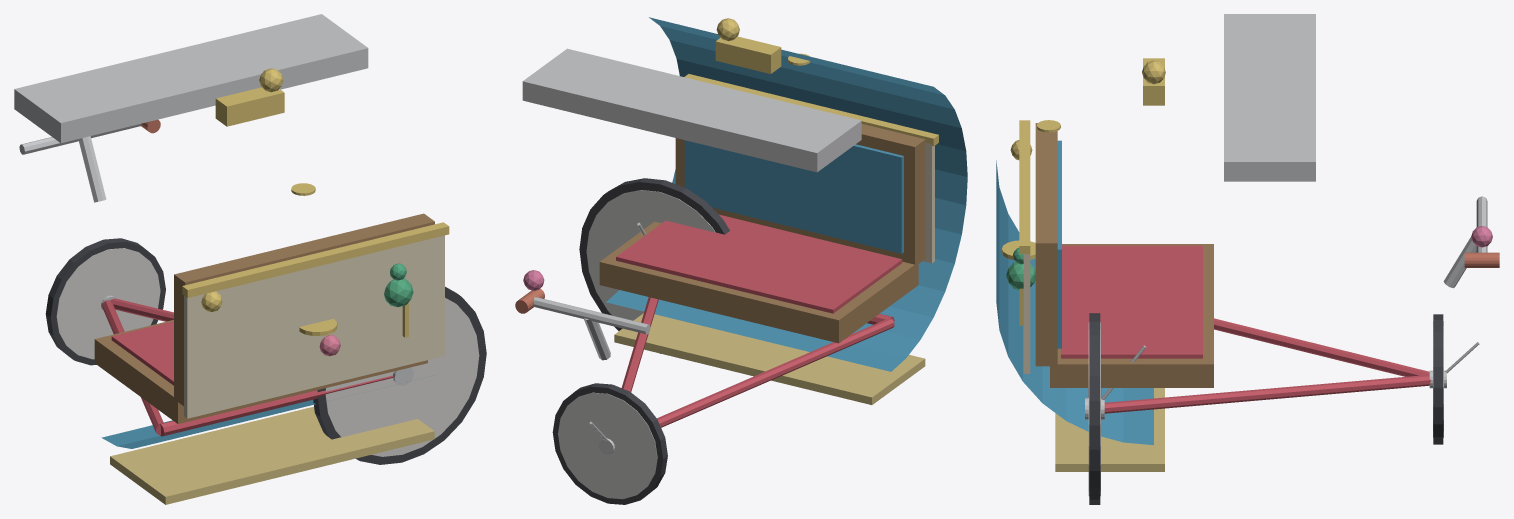
File: rickshaw.glb
3 renders of one model, left to right at view 1: azimuth 30°, elevation 25°; view 2: azimuth 150°, elevation 25°; view 3: azimuth 270°, elevation 25°, orthographic. The views are drawn at different scales.
Visible parts, largest first — view 1: rickshaw; view 2: rickshaw; view 3: rickshaw.
Boxes of the visible parts, box(x1,y1,x2,y2) form: rickshaw: box(14, 14, 486, 504); rickshaw: box(515, 17, 967, 504); rickshaw: box(996, 14, 1499, 504).
Size of the model in its own units: 1.86 by 1.96 by 2.3.
